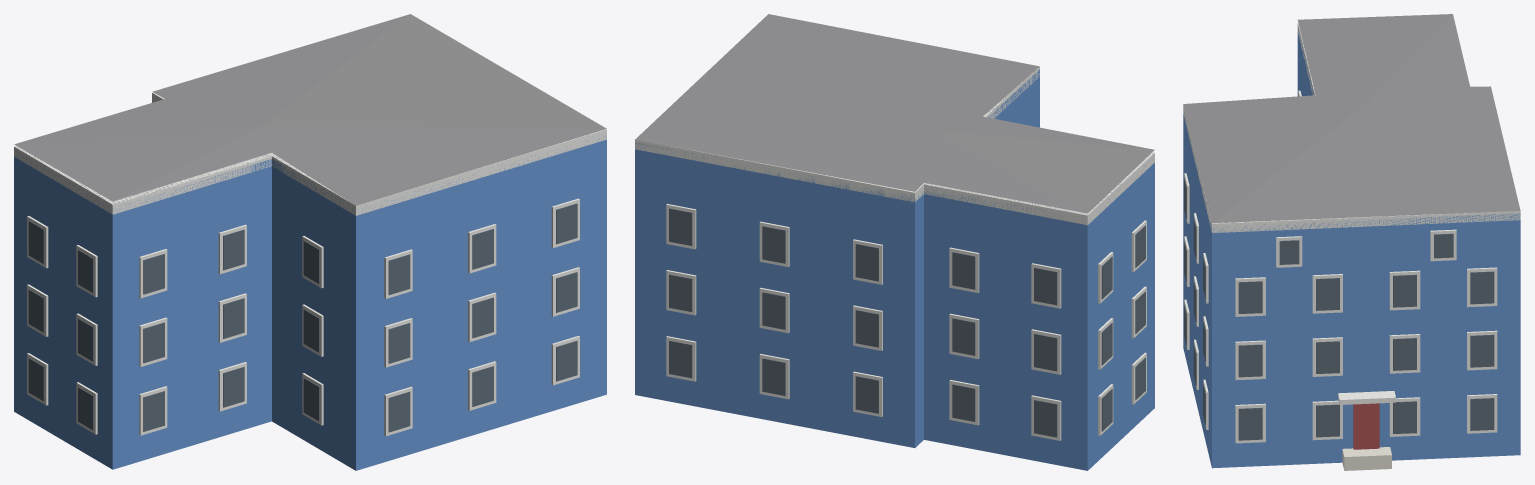
3 renders of one model, left to right at view 1: azimuth 30°, elevation 25°; view 2: azimuth 150°, elevation 25°; view 3: azimuth 270°, elevation 25°, orthographic. The views are drawn at different scales.
Parts seen in each view (by area): view 1: mass, roofcap, cornice, gl_7_5.4_0, gl_7_8.6_0, gl_7_2.2_0, gl_5_2.2_0, gl_5_2.2_1, gl_5_8.6_1, gl_7_5.4_1, gl_7_5.4_2, gl_7_8.6_2 (+8 smaller); view 2: mass, roofcap, cornice, gl_1_5.4_1, gl_1_2.2_1, gl_1_8.6_1, gl_3_2.2_1, gl_3_8.6_0, gl_1_2.2_0, gl_1_2.2_2, gl_1_5.4_2, gl_1_8.6_0 (+12 smaller); view 3: mass, roofcap, cornice, door, steps, gl_0_5.4_3, gl_0_8.6_3, gl_0_2.2_0, gl_0_2.2_3, gl_0_5.4_0, gl_0_8.6_0, gl_0_2.2_1 (+22 smaller).
Boxes of the visible parts, <box> form: mass: <box>14,135,606,470</box>; roofcap: <box>14,14,606,205</box>; cornice: <box>14,92,606,215</box>; gl_7_5.4_0: <box>388,323,410,363</box>; gl_7_8.6_0: <box>388,254,410,295</box>; gl_7_2.2_0: <box>388,391,410,432</box>; gl_5_2.2_0: <box>143,391,164,431</box>; gl_5_2.2_1: <box>223,367,244,407</box>; gl_5_8.6_1: <box>223,229,244,270</box>; gl_7_5.4_1: <box>472,297,493,338</box>; gl_7_5.4_2: <box>556,272,577,312</box>; gl_7_8.6_2: <box>556,203,577,244</box>; mass: <box>635,69,1154,470</box>; roofcap: <box>635,14,1154,214</box>; cornice: <box>635,67,1154,225</box>; gl_1_5.4_1: <box>762,292,785,329</box>; gl_1_2.2_1: <box>762,358,785,395</box>; gl_1_8.6_1: <box>762,226,785,263</box>; gl_3_2.2_1: <box>1034,400,1057,437</box>; gl_3_8.6_0: <box>952,252,975,289</box>; gl_1_2.2_0: <box>669,340,692,378</box>; gl_1_2.2_2: <box>855,376,878,413</box>; gl_1_5.4_2: <box>855,310,878,347</box>; gl_1_8.6_0: <box>669,208,692,245</box>; mass: <box>1183,26,1520,468</box>; roofcap: <box>1183,14,1520,223</box>; cornice: <box>1183,23,1520,232</box>; door: <box>1353,403,1379,449</box>; steps: <box>1342,447,1391,470</box>; gl_0_5.4_3: <box>1470,334,1494,367</box>; gl_0_8.6_3: <box>1470,271,1494,304</box>; gl_0_2.2_0: <box>1238,407,1262,440</box>; gl_0_2.2_3: <box>1470,398,1494,430</box>; gl_0_5.4_0: <box>1238,344,1262,377</box>; gl_0_8.6_0: <box>1238,281,1262,313</box>; gl_0_2.2_1: <box>1316,404,1339,437</box>.
Bounding box in the file's own units: 22.86 × 12.59 × 15.46.
